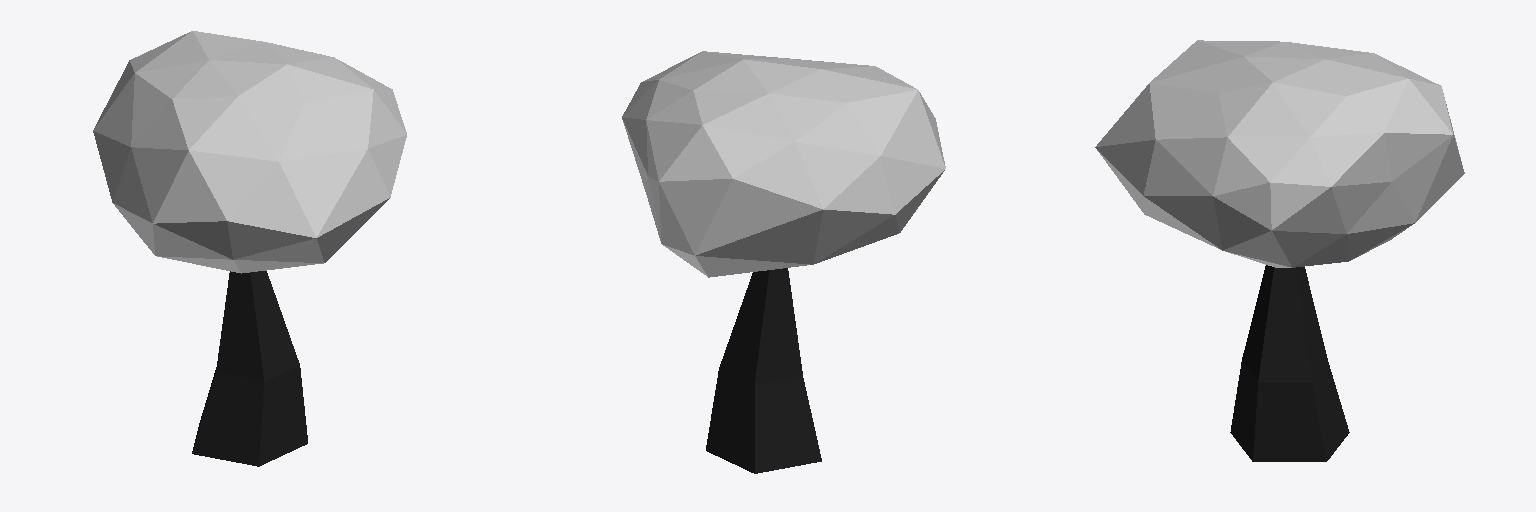
The model's file is Low_Poly_Tree_001.obj.
The picture shows the model from 3 angles: view 1: azimuth 30°, elevation 25°; view 2: azimuth 150°, elevation 25°; view 3: azimuth 270°, elevation 25°; orthographic projection.
Visible parts, largest first — view 1: Low_Poly_Tree_001_Icosphere; view 2: Low_Poly_Tree_001_Icosphere; view 3: Low_Poly_Tree_001_Icosphere.
Boxes of the visible parts, <box> form: Low_Poly_Tree_001_Icosphere: <box>93,31,406,466</box>; Low_Poly_Tree_001_Icosphere: <box>622,51,945,473</box>; Low_Poly_Tree_001_Icosphere: <box>1095,40,1464,461</box>.
Size of the model in its own units: 5.17 by 6.59 by 5.89.